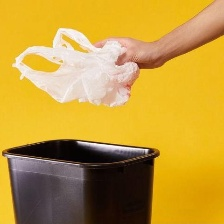plastic_bag: (8, 24, 144, 111)
